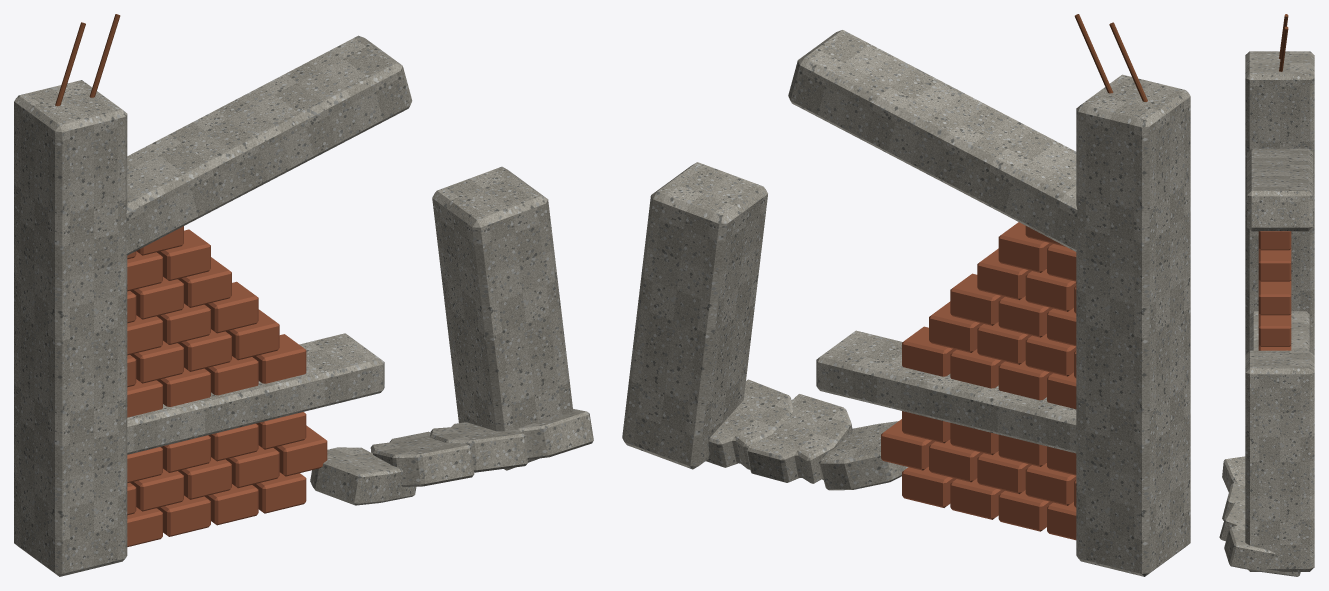
The model's file is collapsed_wall.glb.
The picture shows the model from 3 angles, left to right: view 1: azimuth 30°, elevation 25°; view 2: azimuth 150°, elevation 25°; view 3: azimuth 270°, elevation 25°; orthographic projection. The views are drawn at different scales.
Parts seen in each view (by area): view 1: collapsed_wall__m7_concrete, collapsed_wall__m7_brick, collapsed_wall__m7_rusted_rebar; view 2: collapsed_wall__m7_concrete, collapsed_wall__m7_brick, collapsed_wall__m7_rusted_rebar; view 3: collapsed_wall__m7_concrete, collapsed_wall__m7_brick, collapsed_wall__m7_rusted_rebar.
Boxes of the visible parts, bbox=[...] form: collapsed_wall__m7_concrete: bbox=[14, 35, 593, 576]; collapsed_wall__m7_brick: bbox=[127, 226, 327, 546]; collapsed_wall__m7_rusted_rebar: bbox=[55, 14, 120, 106]; collapsed_wall__m7_concrete: bbox=[622, 30, 1190, 576]; collapsed_wall__m7_brick: bbox=[881, 222, 1076, 540]; collapsed_wall__m7_rusted_rebar: bbox=[1074, 14, 1147, 101]; collapsed_wall__m7_concrete: bbox=[1219, 51, 1314, 576]; collapsed_wall__m7_brick: bbox=[1258, 231, 1291, 350]; collapsed_wall__m7_rusted_rebar: bbox=[1279, 14, 1288, 71].
Size of the model in its own units: 2.76 by 2.65 by 0.5774.
Materials: 3 (1 with a texture image).
